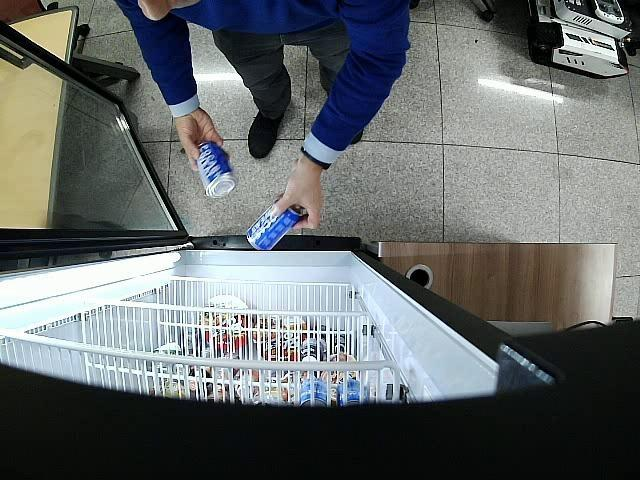13_pocariSweat: (248, 195, 306, 250), (197, 142, 236, 198)
